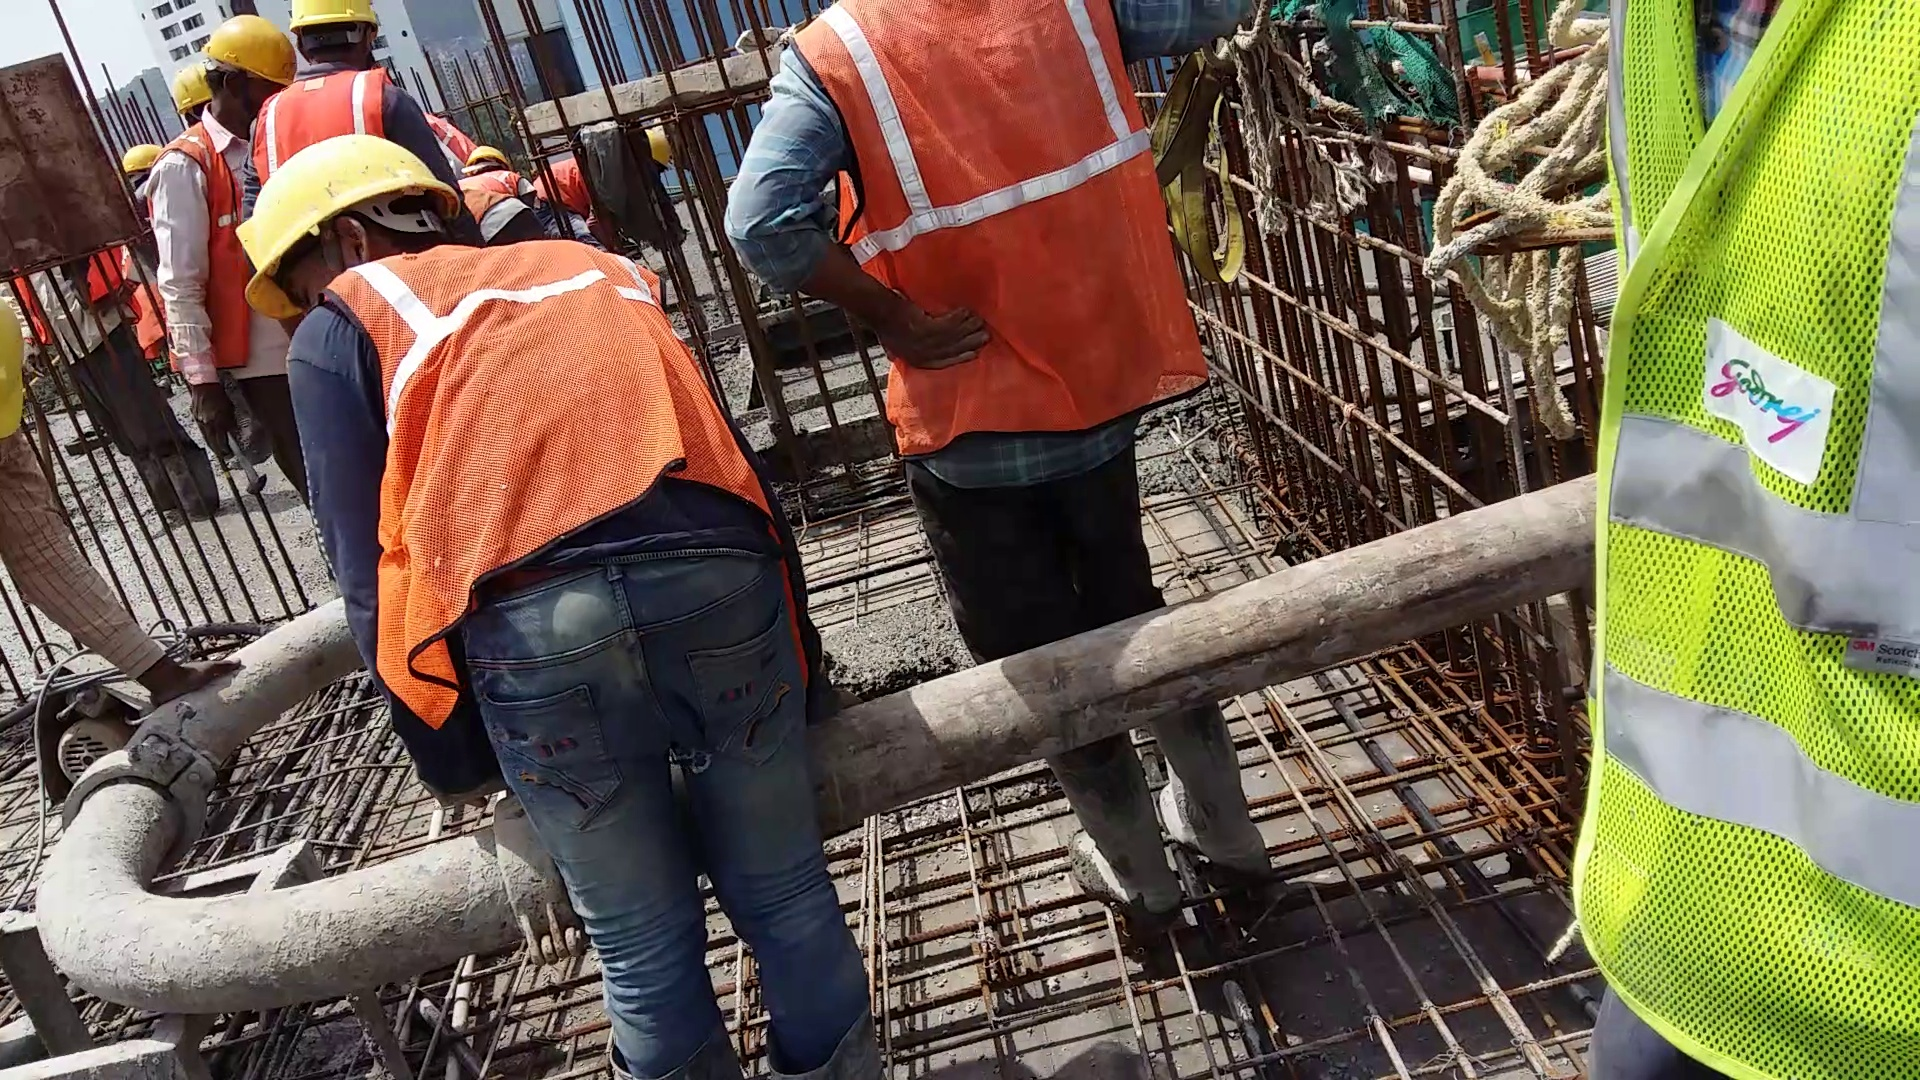SAFE: (260, 131, 716, 688), (167, 7, 247, 326), (251, 1, 392, 142)
